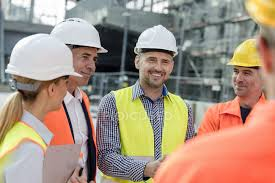helmet: (12, 34, 74, 81), (4, 119, 48, 183), (57, 14, 110, 53), (133, 24, 179, 56), (226, 39, 261, 69), (243, 1, 275, 28)
vest: (112, 90, 187, 183), (54, 94, 98, 183)
